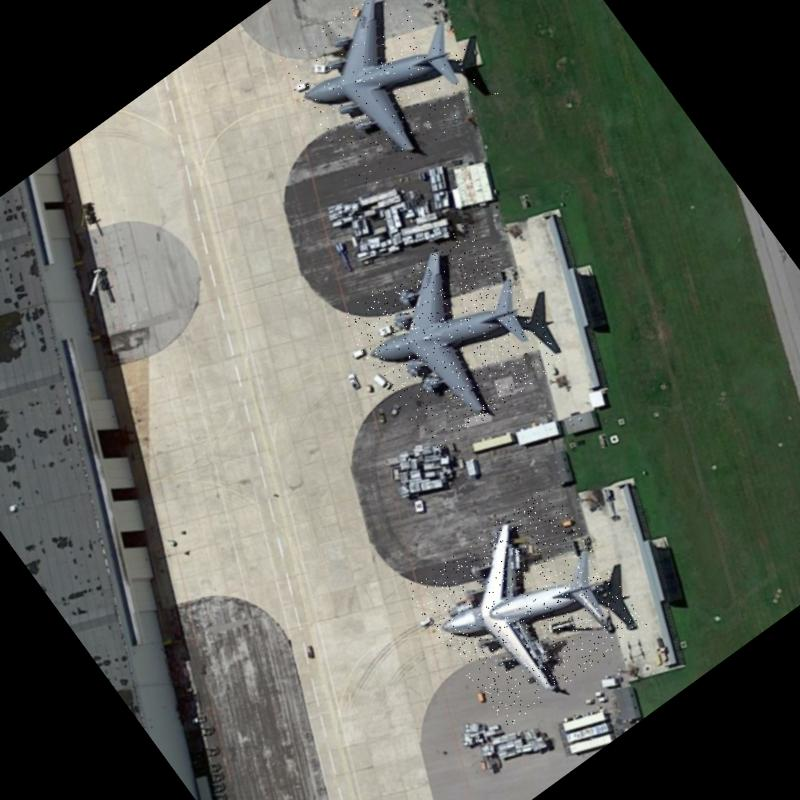A3: (404, 483, 649, 728), (337, 219, 570, 454), (268, 0, 499, 193)
